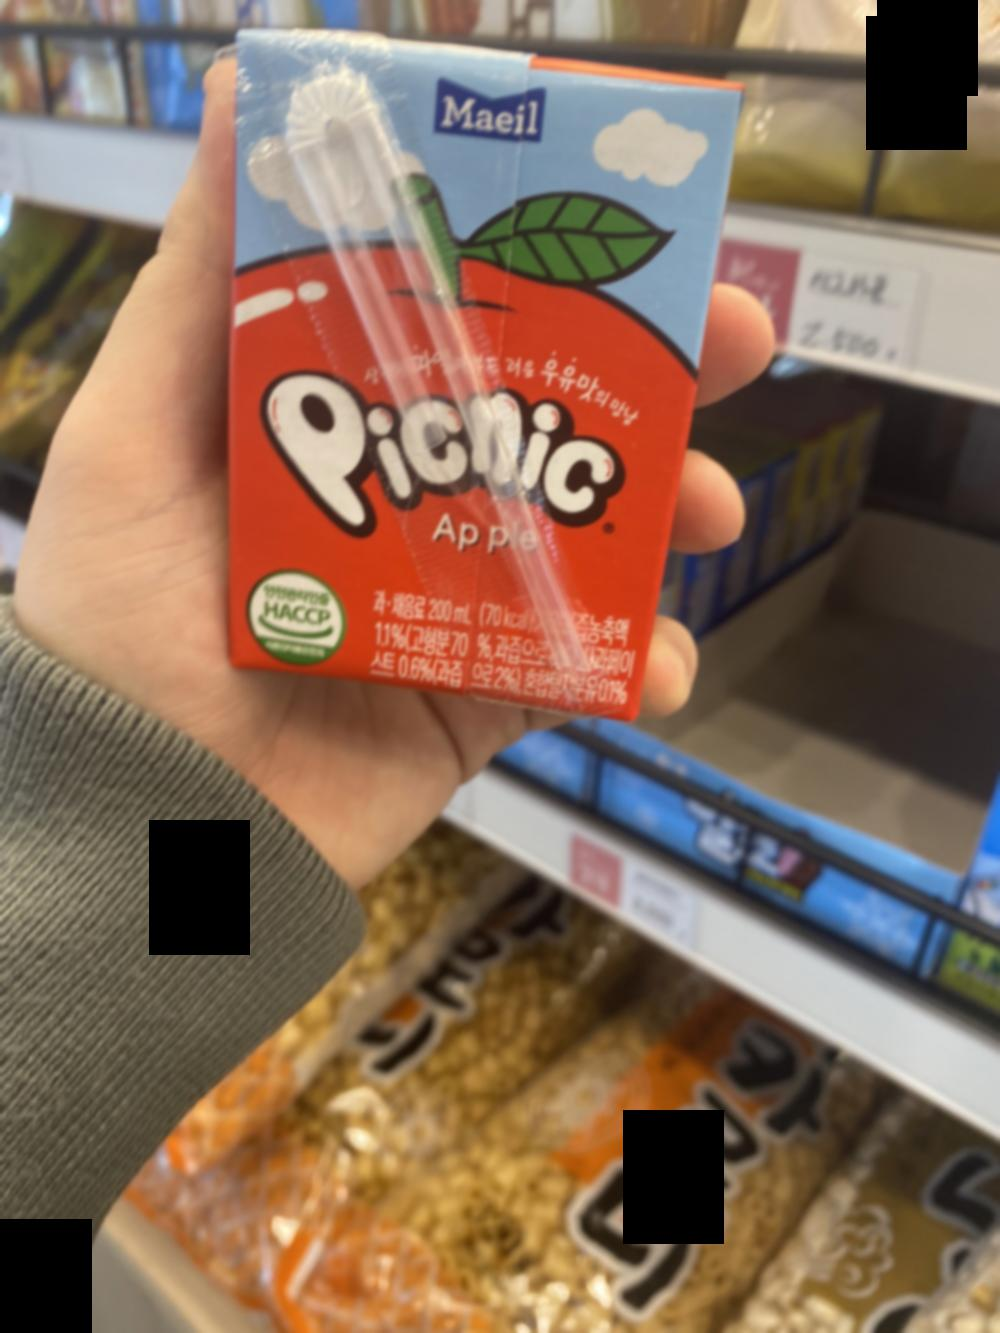picnic_apple: (221, 24, 743, 715)
